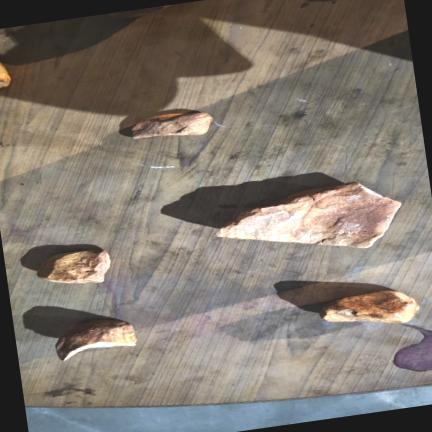Rocks: (216, 182, 399, 247), (55, 319, 135, 359), (320, 290, 417, 322), (36, 248, 109, 282), (131, 112, 211, 137), (110, 5, 166, 17), (0, 63, 9, 87)
